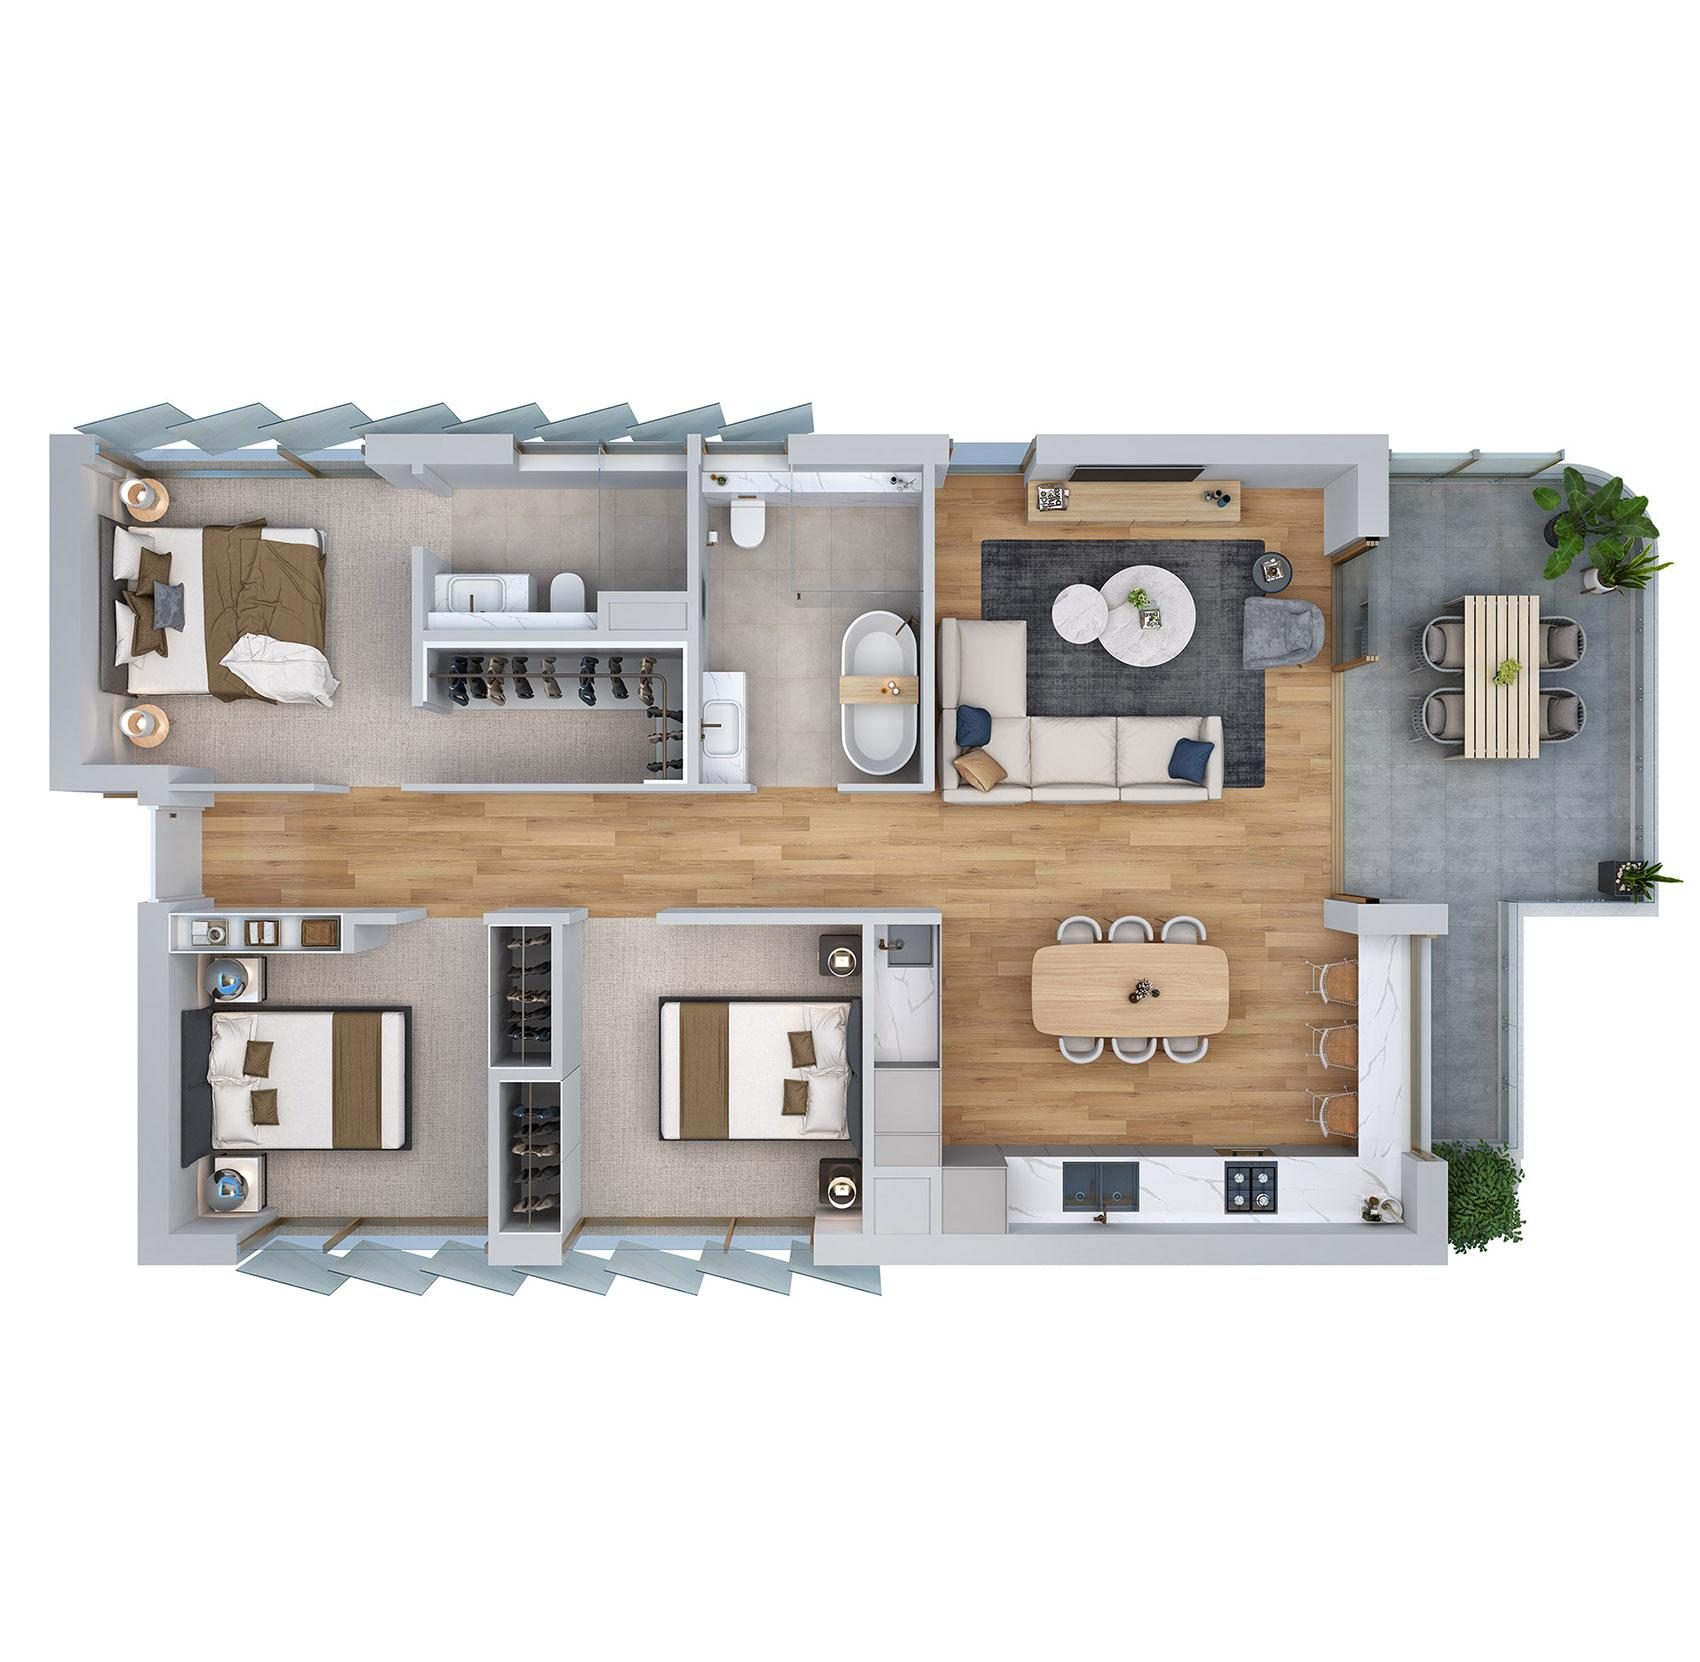room: (931, 452, 1380, 1234), (65, 446, 691, 784), (493, 918, 931, 1231), (143, 912, 492, 1236), (697, 454, 927, 785)
